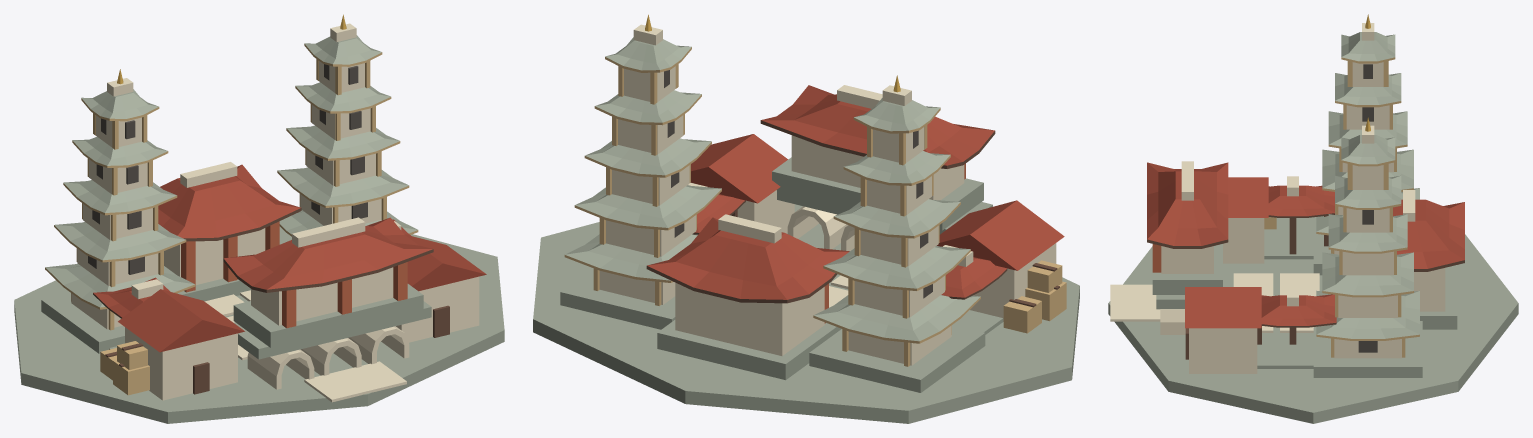
File: quanzhou.glb
3 views of the same model, side by side, from view 1: azimuth 30°, elevation 25°; view 2: azimuth 150°, elevation 25°; view 3: azimuth 270°, elevation 25° (orthographic). The views are drawn at different scales.
Parts seen in each view (by area): view 1: quanzhou_stone, quanzhou_cream, quanzhou_roof_red, quanzhou_sandstone, quanzhou_terracotta, quanzhou_deep_shadow, quanzhou_dark_wood; view 2: quanzhou_stone, quanzhou_cream, quanzhou_roof_red, quanzhou_sandstone, quanzhou_dark_wood, quanzhou_deep_shadow; view 3: quanzhou_stone, quanzhou_cream, quanzhou_roof_red, quanzhou_sandstone, quanzhou_dark_wood, quanzhou_deep_shadow.
Boxes of the visible parts, <box> form: quanzhou_stone: <box>14,35,504,423</box>; quanzhou_cream: <box>71,23,479,402</box>; quanzhou_roof_red: <box>93,164,486,352</box>; quanzhou_sandstone: <box>45,44,418,395</box>; quanzhou_terracotta: <box>181,221,407,328</box>; quanzhou_deep_shadow: <box>88,64,367,274</box>; quanzhou_dark_wood: <box>93,208,449,394</box>; quanzhou_stone: <box>533,37,1079,423</box>; quanzhou_cream: <box>599,24,1056,365</box>; quanzhou_roof_red: <box>647,85,1064,299</box>; quanzhou_sandstone: <box>564,47,1066,366</box>; quanzhou_dark_wood: <box>646,120,1059,307</box>; quanzhou_deep_shadow: <box>664,70,932,298</box>; quanzhou_stone: <box>1108,32,1518,423</box>; quanzhou_cream: <box>1110,23,1445,373</box>; quanzhou_roof_red: <box>1147,162,1464,328</box>; quanzhou_sandstone: <box>1264,57,1419,357</box>; quanzhou_dark_wood: <box>1147,213,1464,359</box>; quanzhou_deep_shadow: <box>1358,64,1377,352</box>.
Size of the model in its own units: 2.1 by 1.11 by 1.66.
